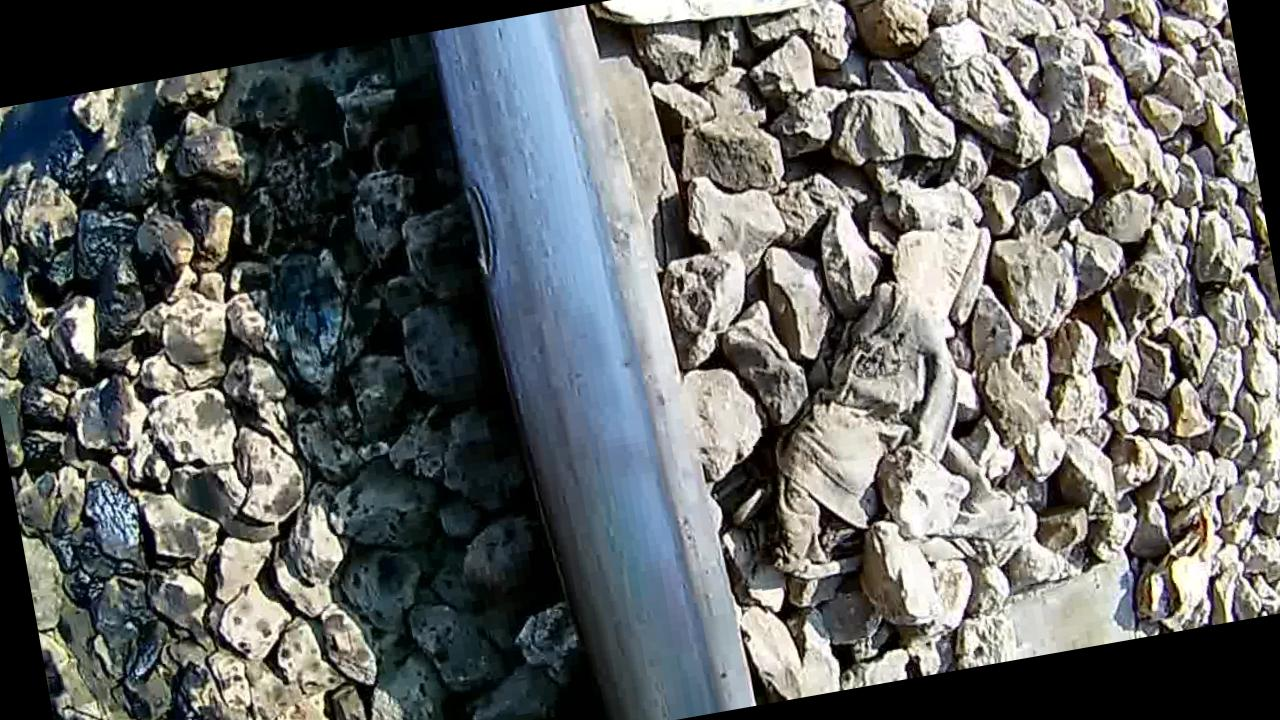crack: (457, 164, 515, 298)
